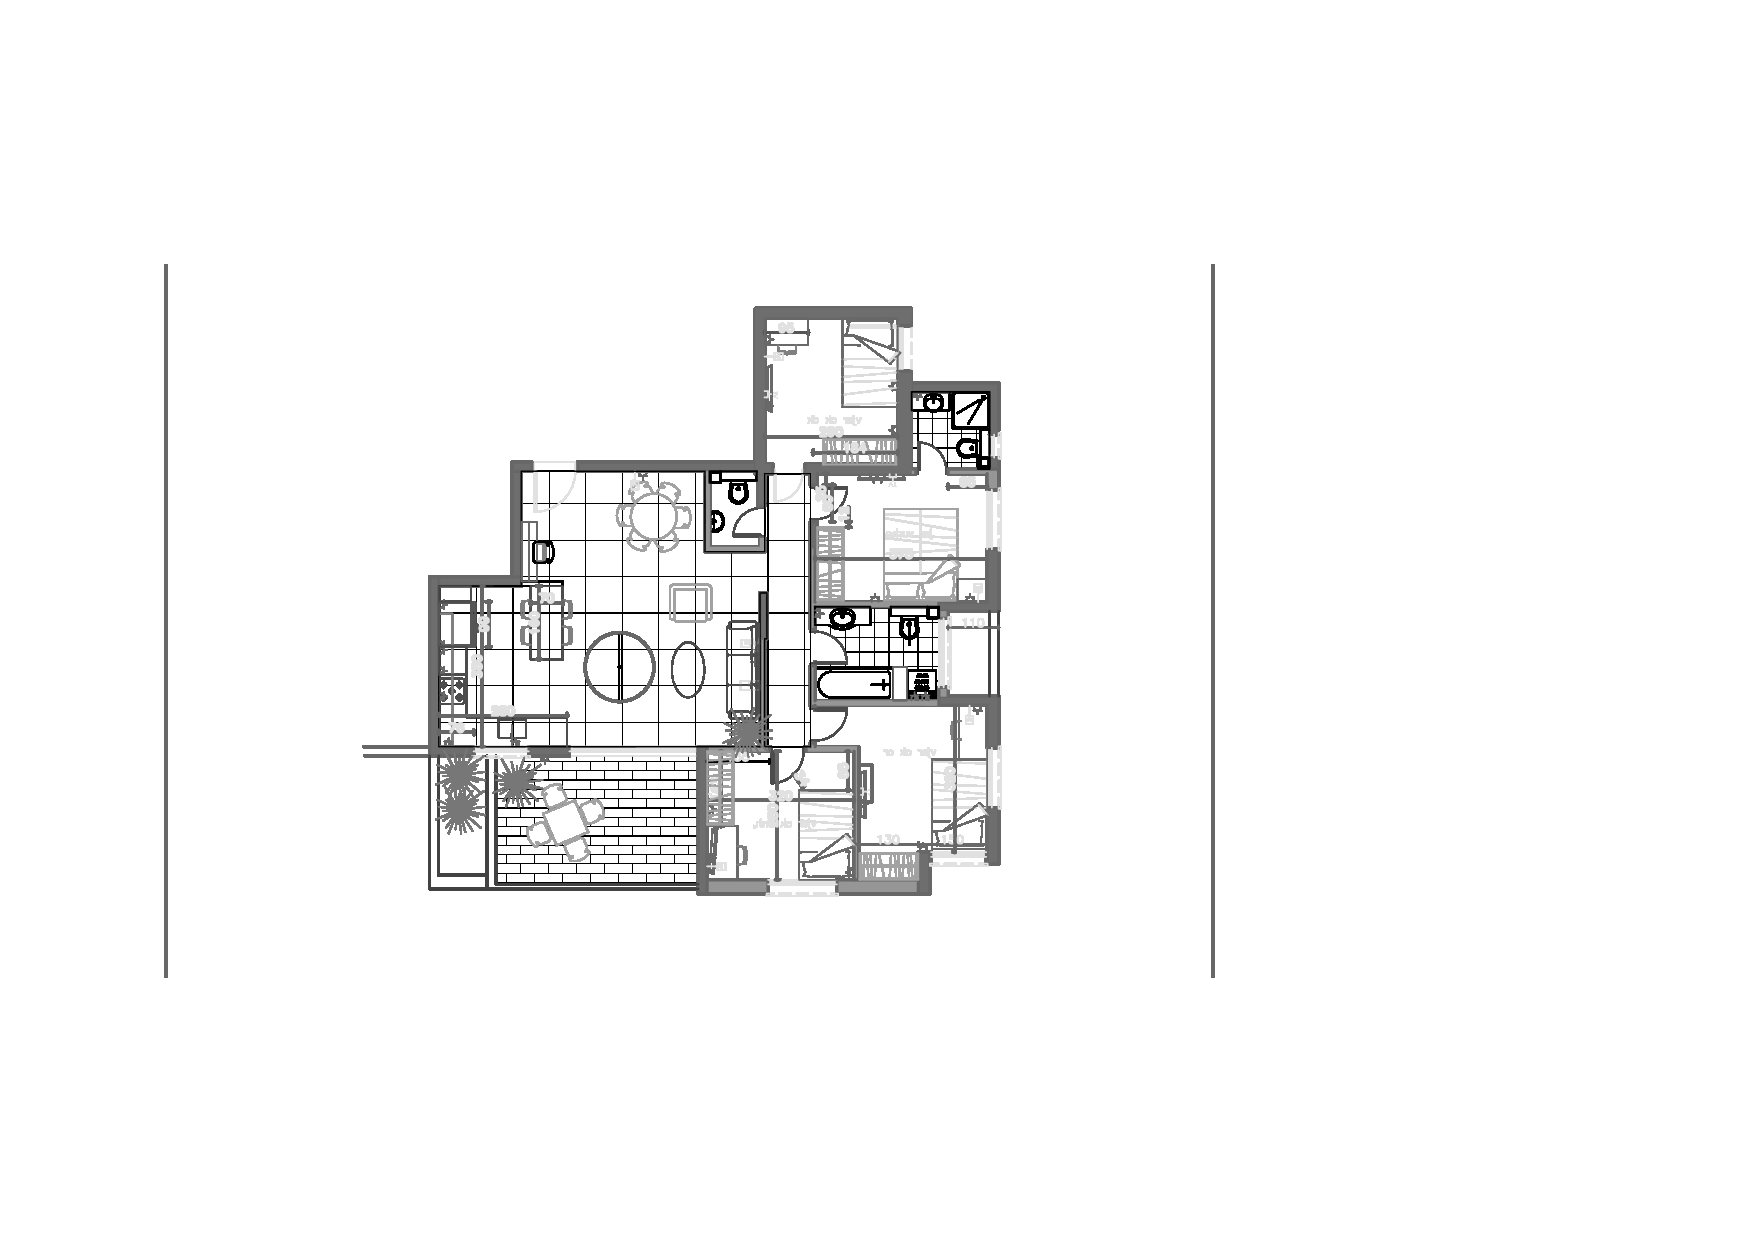door: (525, 464, 582, 513), (757, 462, 815, 510), (804, 705, 862, 753), (722, 502, 778, 550), (905, 431, 961, 479), (801, 621, 858, 670), (764, 743, 820, 792)
wall: (428, 574, 440, 757), (695, 745, 707, 894), (509, 459, 521, 585)
window: (765, 874, 845, 900), (982, 482, 1005, 558), (985, 743, 1007, 820), (468, 745, 526, 760)
